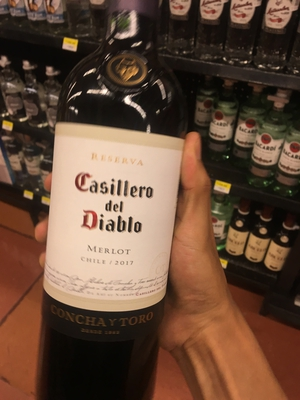casillero del diablo merlot: (40, 5, 191, 400)
